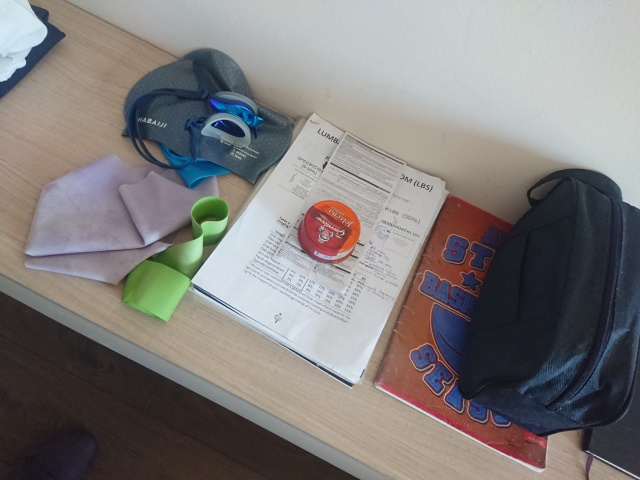Gavrilovic Pork Liver Pate 100g: (296, 197, 363, 265)
